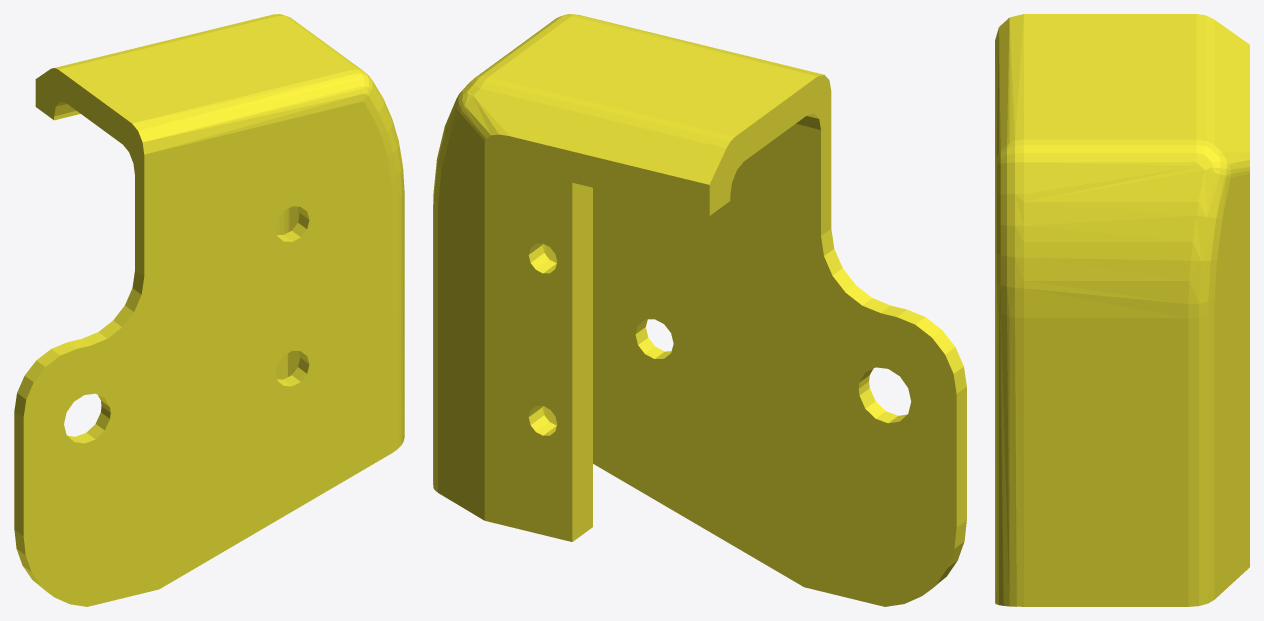
File: rpb1.dae
3 views of the same model, side by side, from view 1: azimuth 30°, elevation 25°; view 2: azimuth 150°, elevation 25°; view 3: azimuth 270°, elevation 25° (orthographic). The views are drawn at different scales.
Visible parts, largest first — view 1: rpb1; view 2: rpb1; view 3: rpb1.
Boxes of the visible parts, x1,y1,x2,y2 form: rpb1: (14, 14, 404, 606); rpb1: (433, 14, 966, 606); rpb1: (995, 14, 1249, 606).
Bounding box in the file's own units: 0.0367 × 0.0177 × 0.0415.
1 material, 1 textured.
